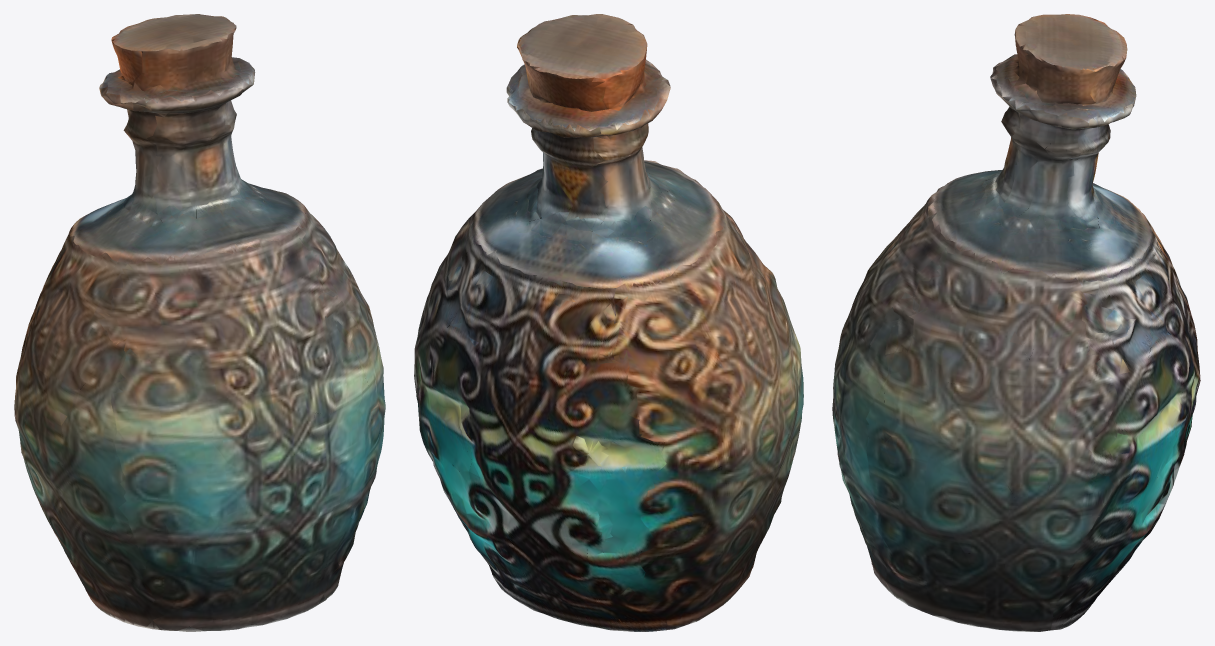
File: b5cfbed0-ea2d-49c6-91c2-9f3e5b700c27.glb
3 views of the same model, side by side, from view 1: azimuth 30°, elevation 25°; view 2: azimuth 150°, elevation 25°; view 3: azimuth 270°, elevation 25° (orthographic). The views are drawn at different scales.
Visible parts, largest first — view 1: world; view 2: world; view 3: world.
Part boxes in pixels (x1,y1,x2,y2): world: (14, 14, 385, 631); world: (414, 14, 803, 631); world: (832, 14, 1200, 631).
Bounding box in the file's own units: 0.5752 × 0.9322 × 0.5555.
1 material, 1 textured.
